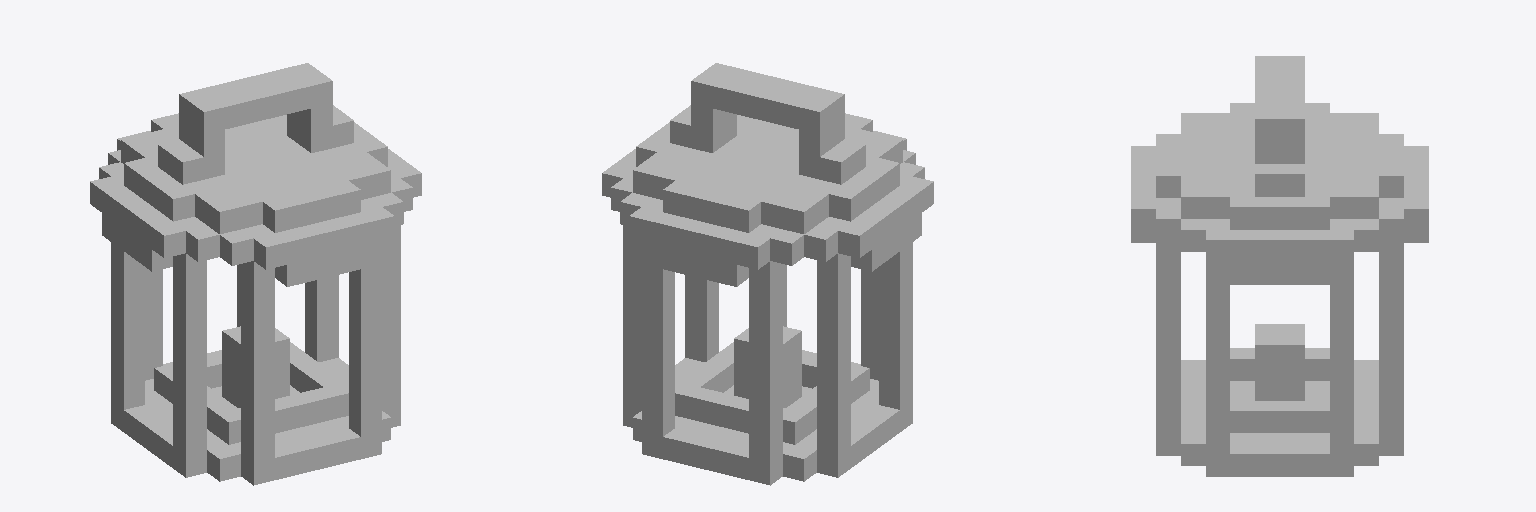
Rendered from lamp.obj.
The picture shows the model from 3 angles: view 1: azimuth 30°, elevation 25°; view 2: azimuth 150°, elevation 25°; view 3: azimuth 270°, elevation 25°; orthographic projection.
Visible parts, largest first — view 1: object 1; view 2: object 1; view 3: object 1.
Boxes of the visible parts, x1=… form: object 1: x1=90, y1=63, x2=421, y2=485; object 1: x1=602, y1=63, x2=933, y2=485; object 1: x1=1131, y1=56, x2=1428, y2=476.
Size of the model in its own units: 1.2 by 1.5 by 1.2.